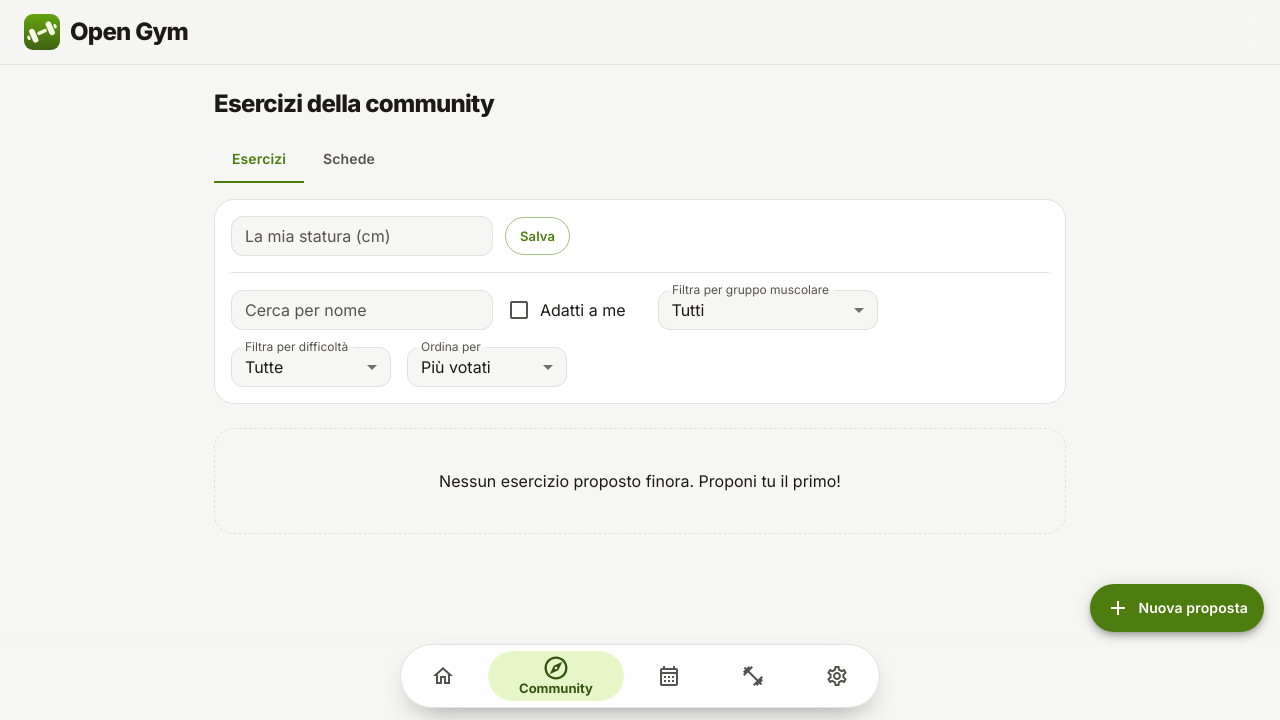
Scenario: Percorso completo esercizi (M2) › chiede la statura al primo uso del filtro e poi lo applica
The width and height of the screenshot is (1280, 720).
Check the checkbox with test id "filter-suitable". click: (519, 310)
box: [498, 289, 540, 331]
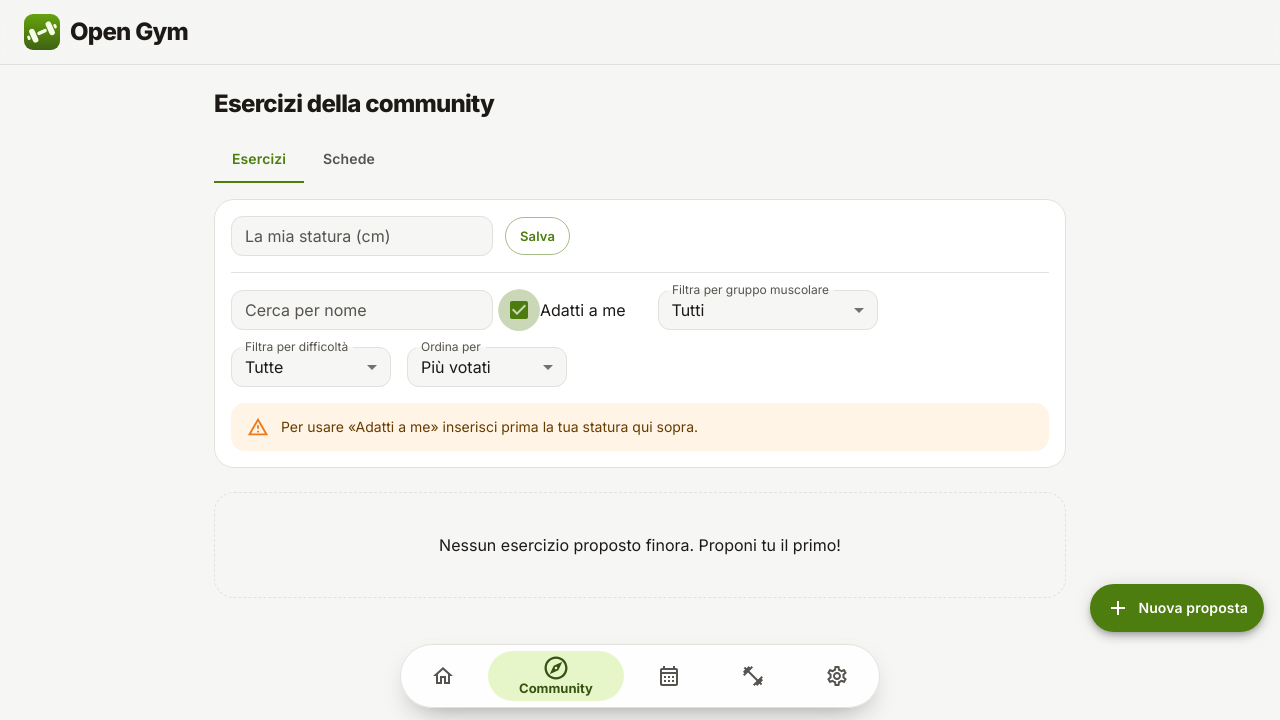
Result: the message "Per usare «Adatti a me» inserisci prima la tua statura qui sopra." is shown at [231, 403, 1049, 451]
Click the field with test id "stature-input". click: (362, 236)
box: [231, 216, 493, 256]
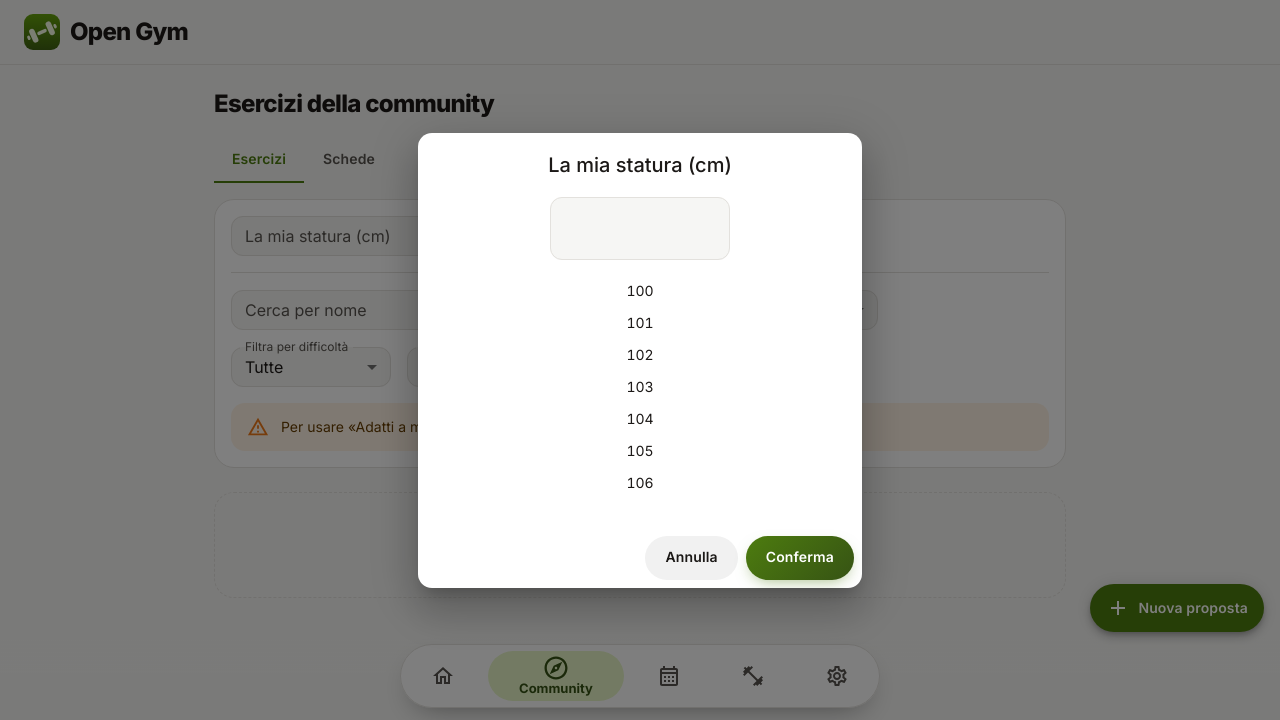
Scroll
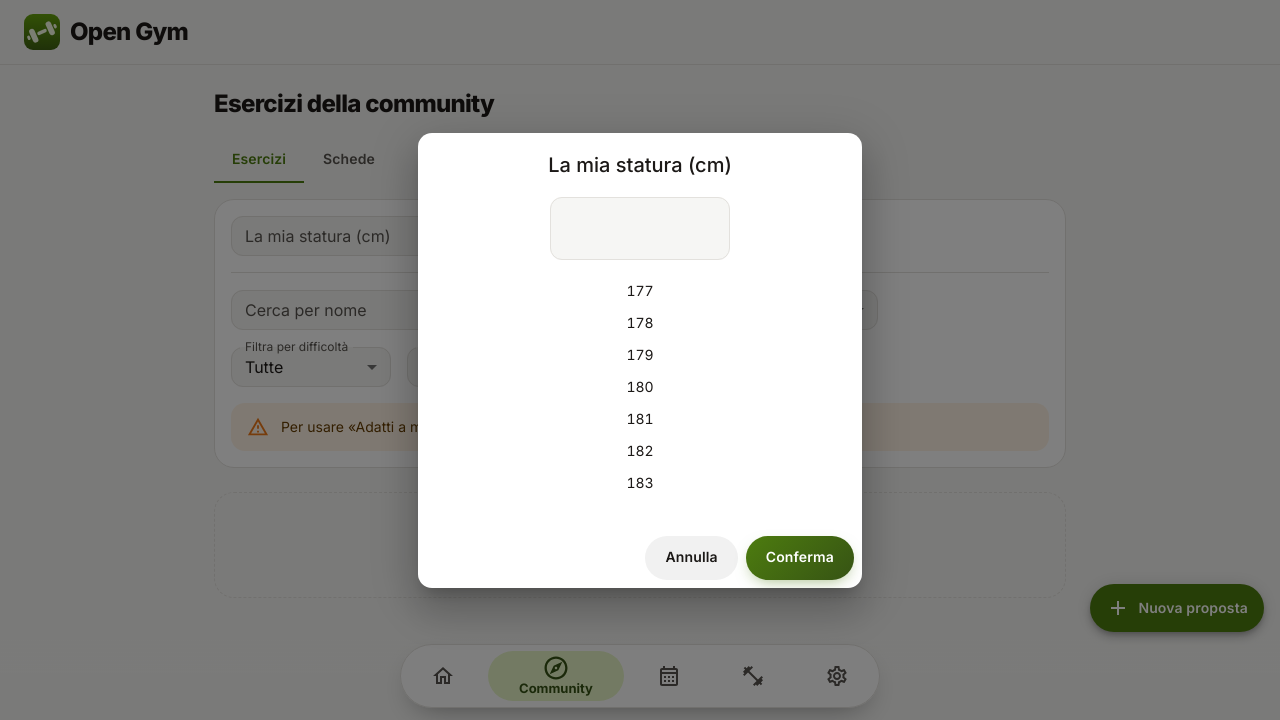
Click the option "180". click: (640, 388)
box: [626, 379, 653, 396]
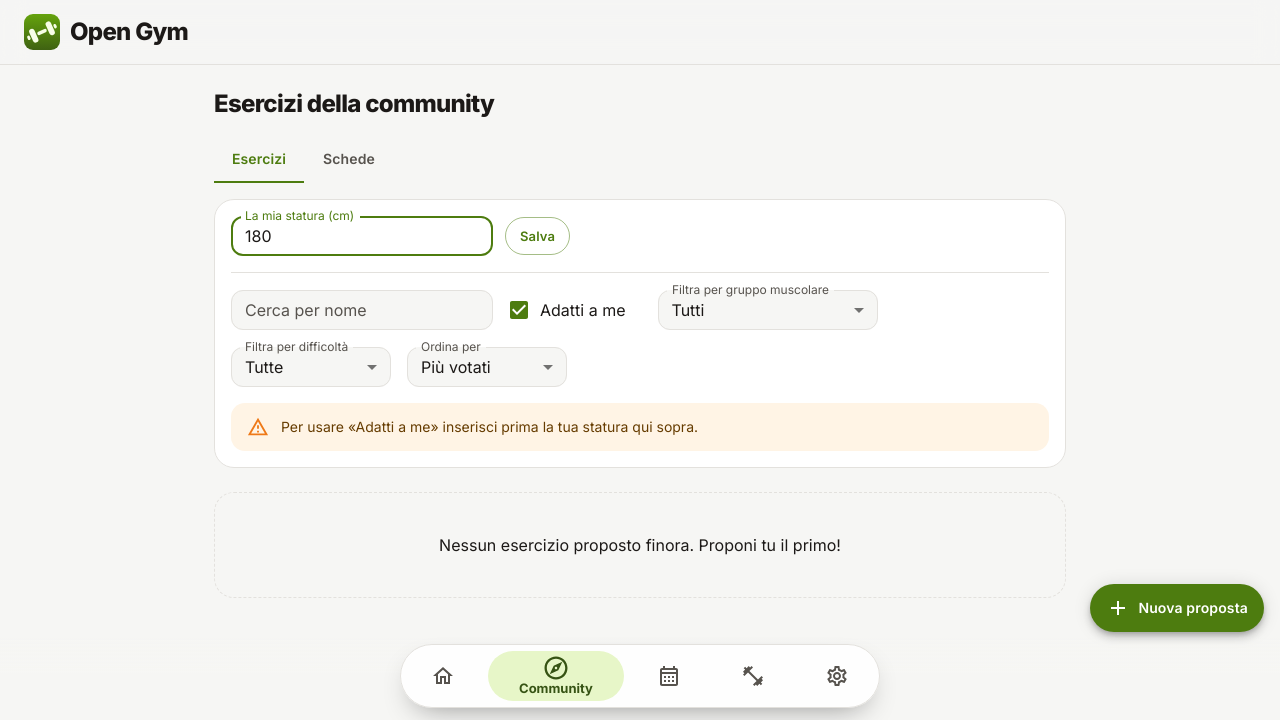
Result: the list with test id "stature-input" is gone
Click the button with test id "stature-save". click: (538, 236)
box: [505, 217, 570, 255]
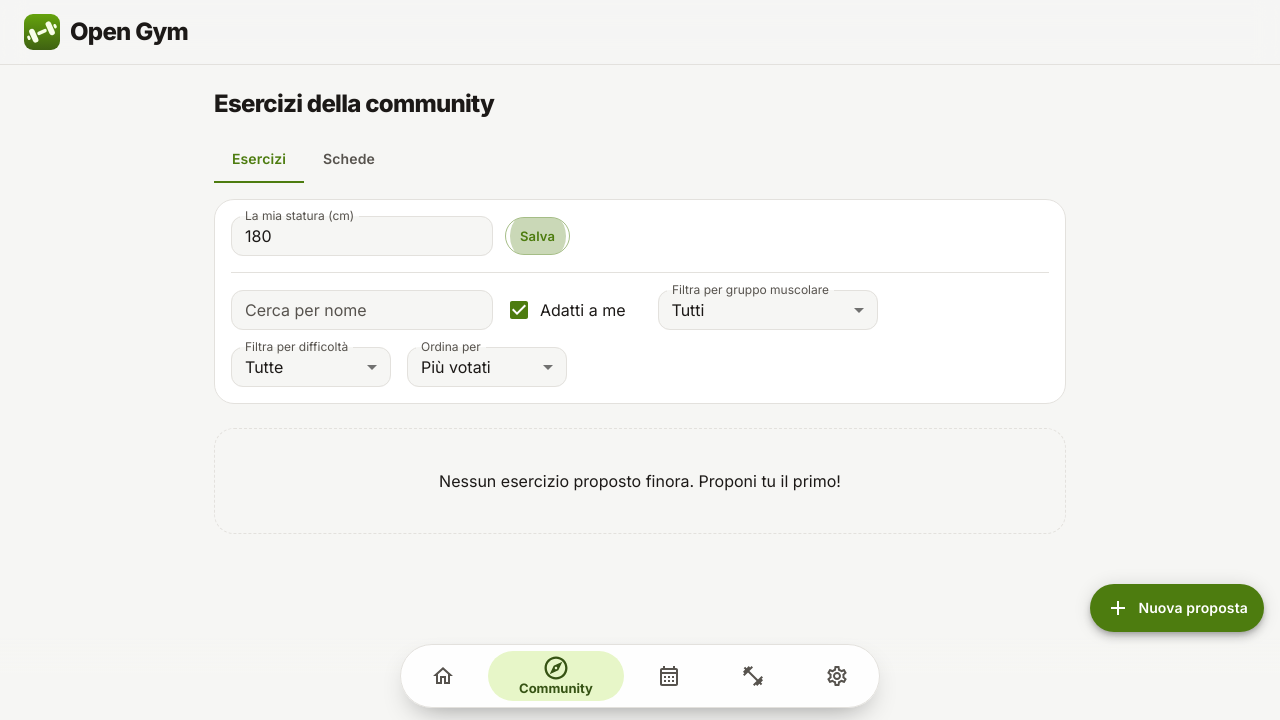
Result: the message with test id "stature-required" is gone
